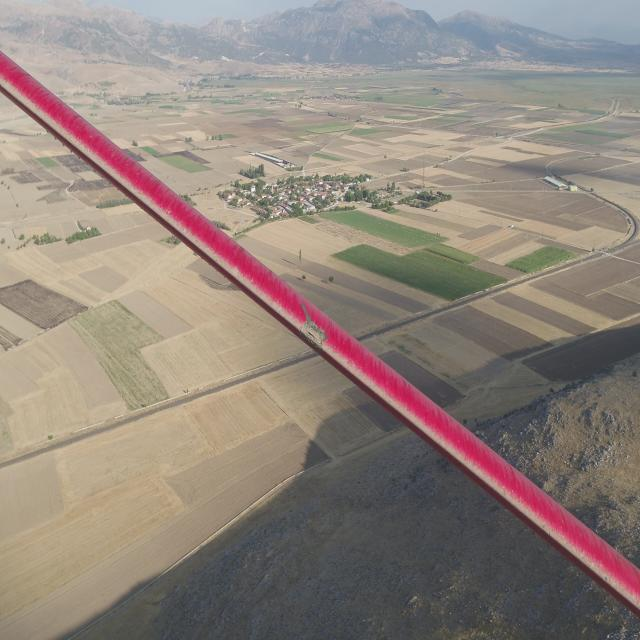Coating_defects: (296, 316, 332, 355)
EROSION: (291, 317, 360, 380)
